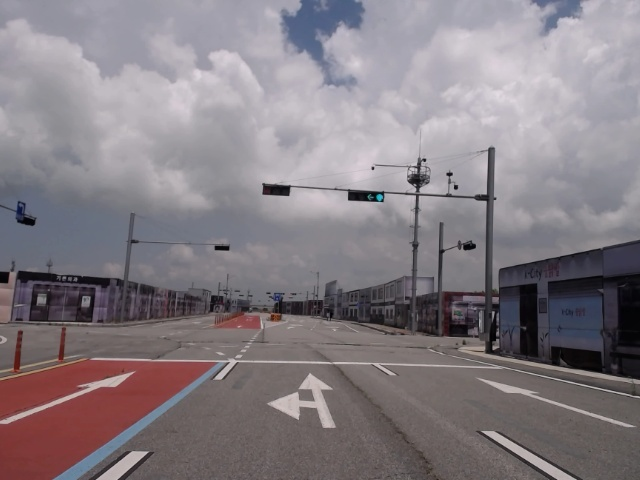all_green_4: (347, 190, 385, 200)
